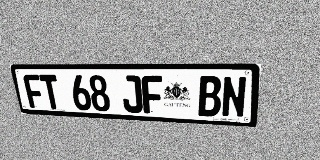6: (69, 75, 92, 111)
8: (88, 75, 111, 112)
B: (198, 76, 222, 117)
F: (141, 75, 164, 114), (22, 74, 46, 108)
J: (120, 75, 143, 113)
N: (221, 76, 247, 118)
T: (39, 75, 62, 109)
